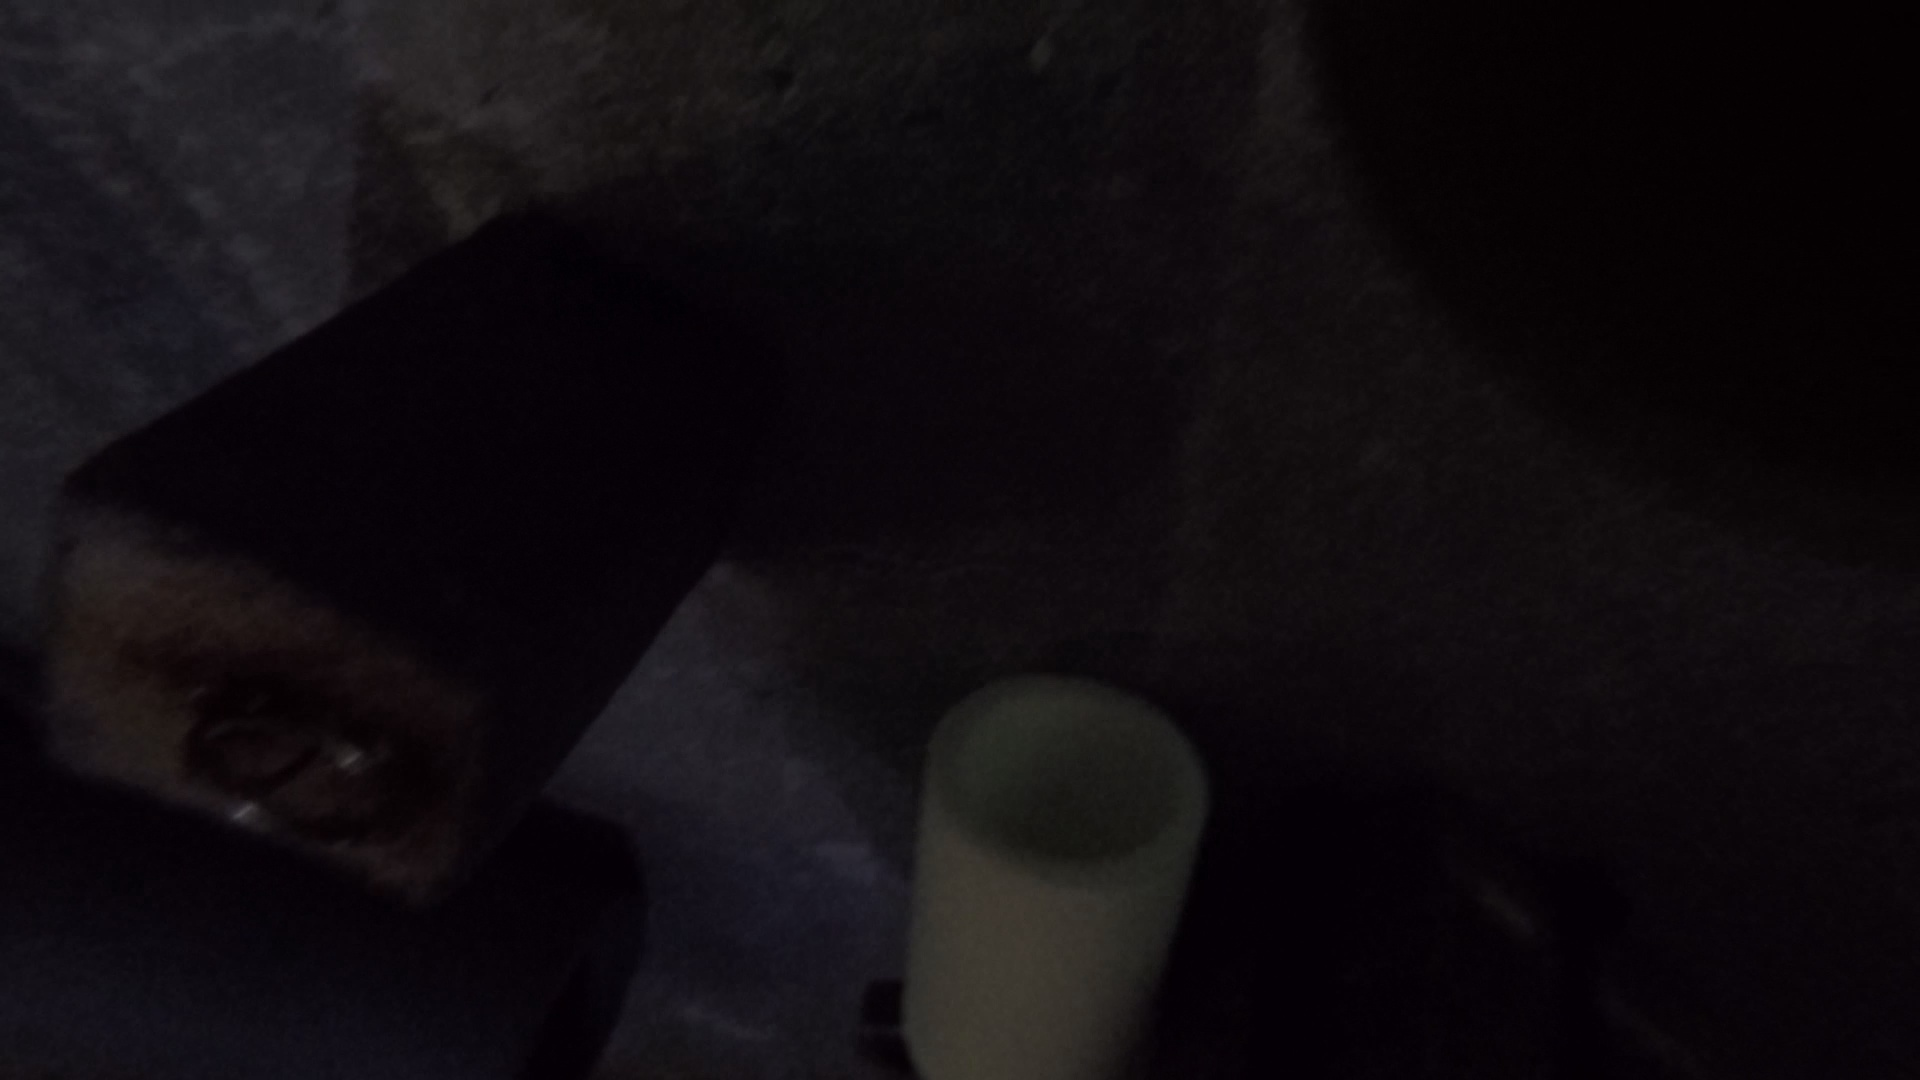bolt: (1468, 880, 1712, 1077)
led_block: (45, 207, 756, 918)
nut: (853, 977, 906, 1069)
pipe: (1, 738, 644, 1077), (901, 671, 1215, 1080)
